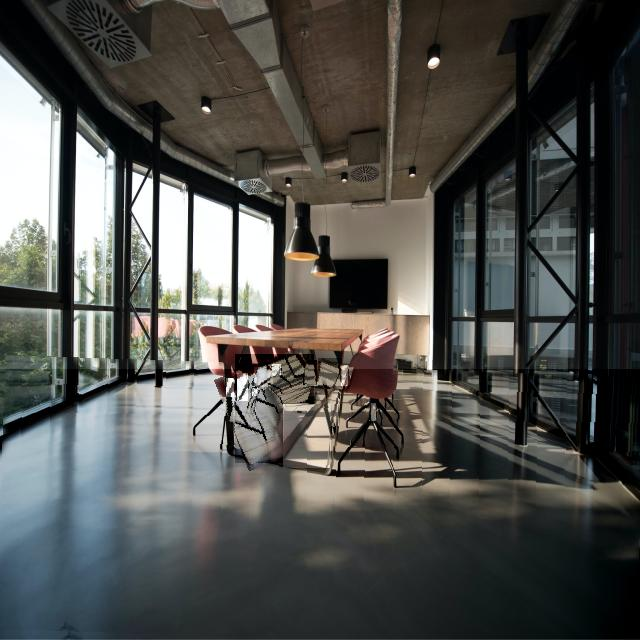floor: (0, 370, 640, 640), (235, 354, 314, 463), (284, 405, 331, 468), (236, 390, 256, 426), (319, 359, 342, 388), (328, 390, 339, 426), (254, 368, 273, 387), (305, 361, 317, 385), (238, 374, 248, 401), (227, 379, 234, 397), (342, 365, 348, 386), (273, 364, 281, 376), (371, 404, 376, 421), (252, 388, 258, 396)
